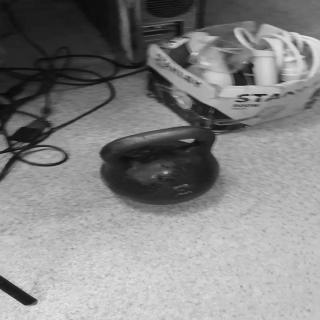kettlebell: (99, 126, 223, 206)
